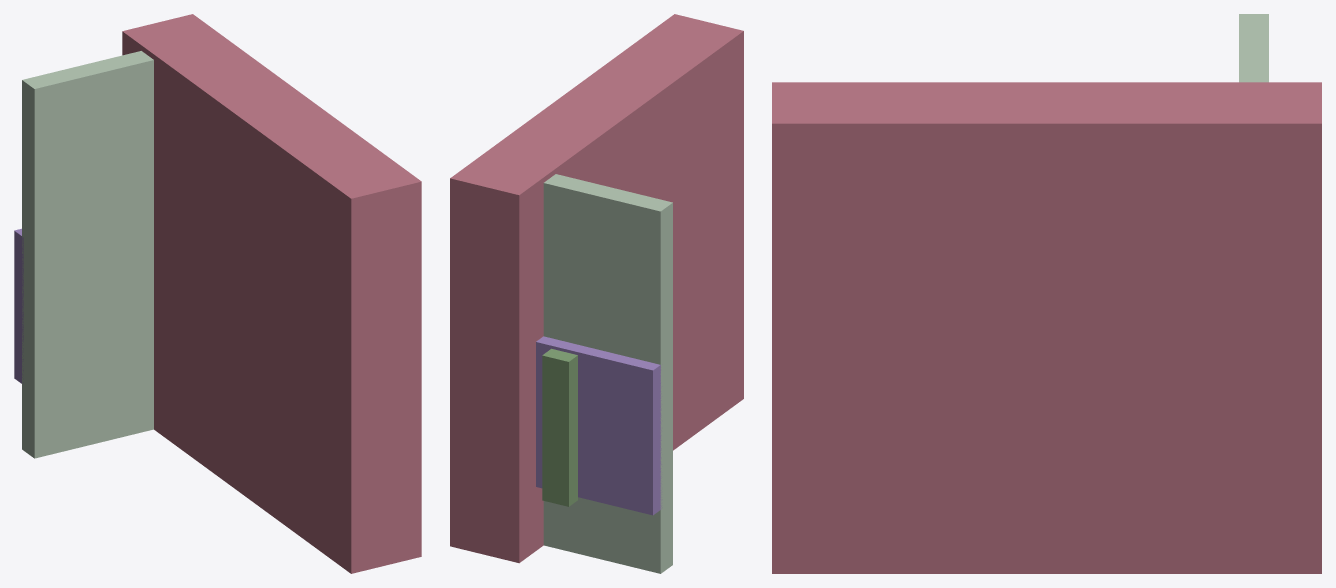
3 renders of one model, left to right at view 1: azimuth 30°, elevation 25°; view 2: azimuth 150°, elevation 25°; view 3: azimuth 270°, elevation 25°, orthographic. The views are drawn at different scales.
Visible parts, largest first — view 1: world; view 2: world; view 3: world.
Part boxes in pixels (x1=…): world: x1=14, y1=14, x2=421, y2=573; world: x1=450, y1=14, x2=743, y2=573; world: x1=772, y1=14, x2=1321, y2=573.
Bounding box in the file's own units: 3.55 × 6.6 × 7.3.
